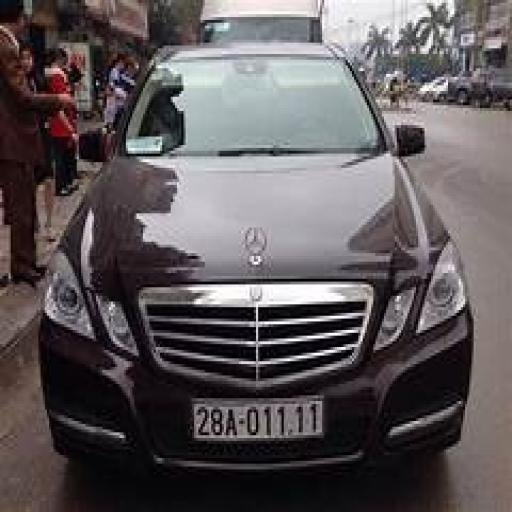place: (198, 403, 330, 440)
